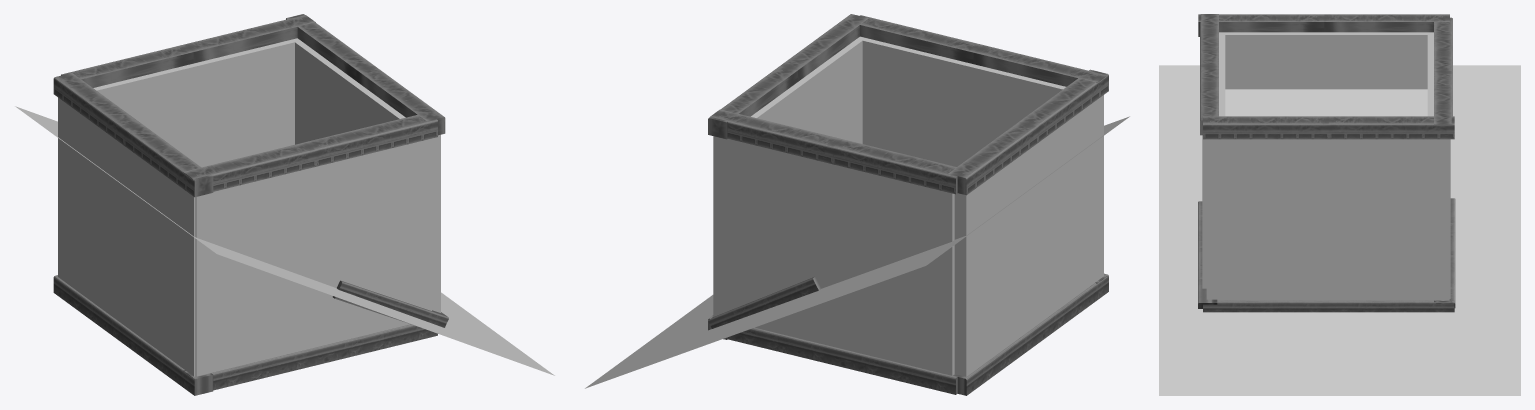
File: Building_Wall_09.fbx
3 renders of one model, left to right at view 1: azimuth 30°, elevation 25°; view 2: azimuth 150°, elevation 25°; view 3: azimuth 270°, elevation 25°, orthographic. The views are drawn at different scales.
Parts seen in each view (by area): view 1: BuildingWall3.015, Plane, BuildingWall3.005; view 2: BuildingWall3.015, Plane, BuildingWall3.008; view 3: BuildingWall3.015, Plane, BuildingWall3.005, BuildingWall3.008.
Boxes of the visible parts, x1,y1,x2,y2 form: BuildingWall3.015: (53,14,445,395); Plane: (15,106,554,375); BuildingWall3.005: (332,280,448,327); BuildingWall3.015: (708,14,1108,395); Plane: (585,116,1129,388); BuildingWall3.008: (708,277,821,328); BuildingWall3.015: (1198,14,1454,312); Plane: (1159,65,1520,395); BuildingWall3.005: (1198,201,1217,308); BuildingWall3.008: (1436,198,1455,307).
Size of the model in its own units: 3648 by 2696 by 3772.
